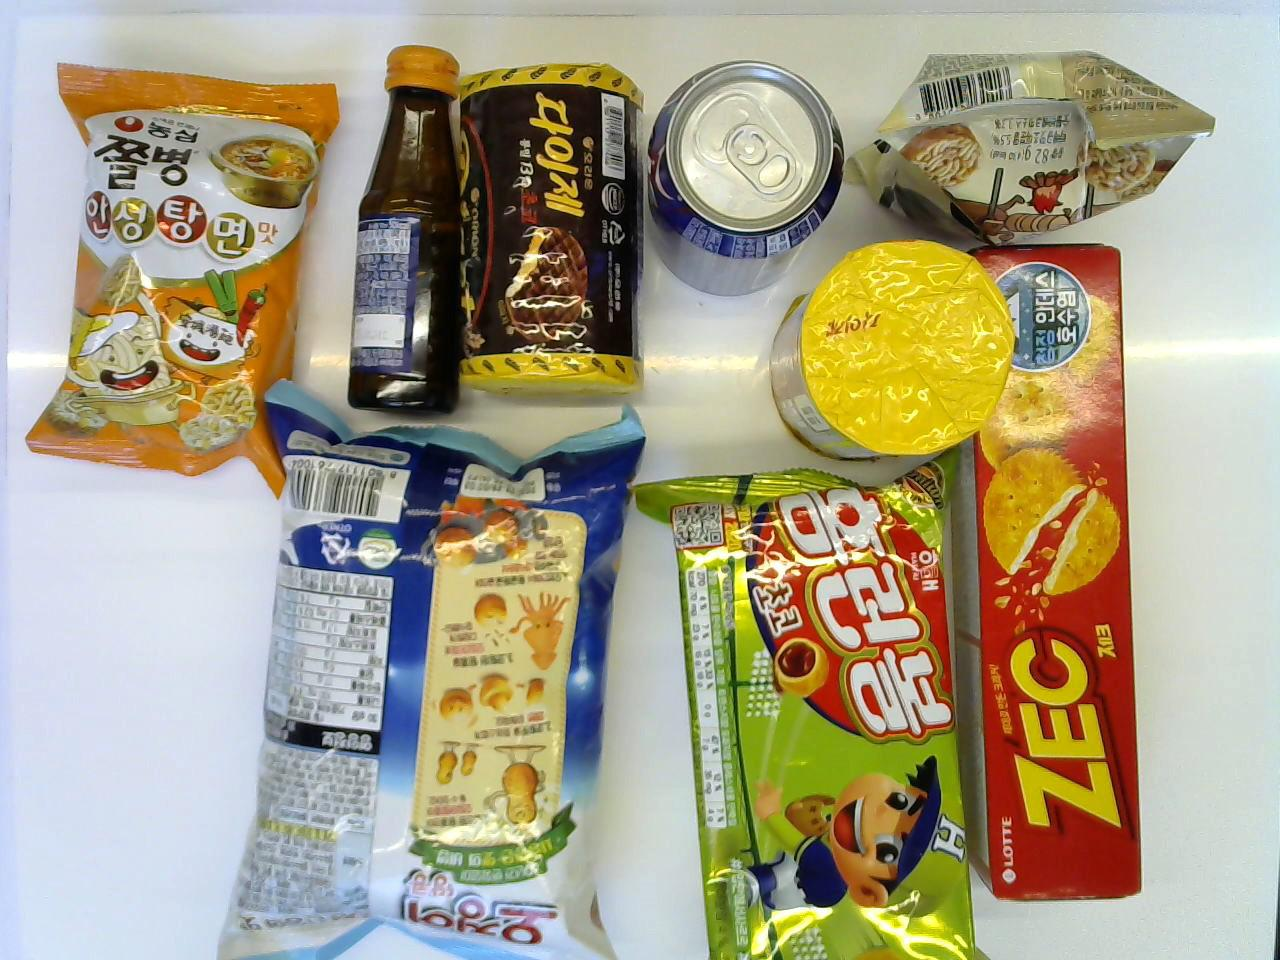diget_choco: (459, 61, 654, 399)
diget_ori: (769, 239, 1015, 464)
homerunball: (618, 444, 987, 960)
jjolbyung_noodle: (20, 56, 337, 505)
jjolbyung_ori: (841, 31, 1219, 246)
squid_peanut: (208, 385, 647, 956)
vita500: (347, 47, 464, 422)
welchs: (639, 54, 838, 299)
zec: (948, 240, 1143, 905)
